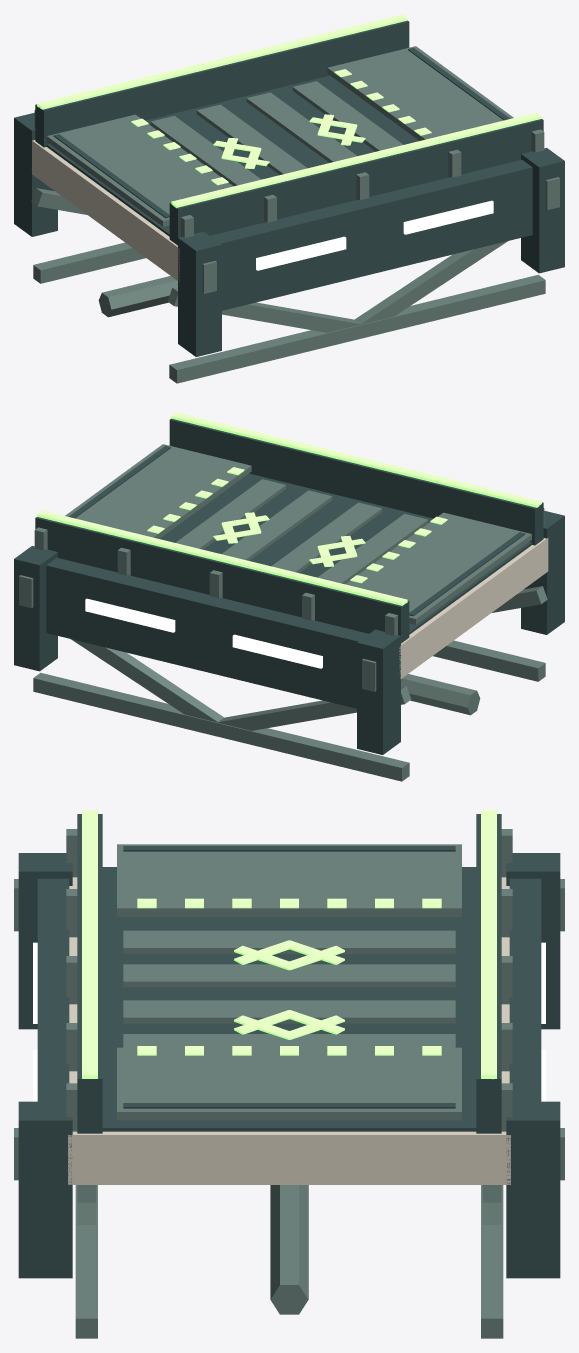
The model's file is Deck_Conveyor_Belt_v4_4_lab.glb.
3 renders of one model, top to bottom at view 1: azimuth 30°, elevation 25°; view 2: azimuth 150°, elevation 25°; view 3: azimuth 270°, elevation 25°, orthographic. The views are drawn at different scales.
Parts seen in each view (by area): view 1: Deck_Conveyor_Belt_v4_4, Treads, TreadsRev; view 2: Deck_Conveyor_Belt_v4_4, Treads, TreadsRev; view 3: Deck_Conveyor_Belt_v4_4, Treads, TreadsRev.
Part boxes in pixels (x1,y1,x2,y2): Deck_Conveyor_Belt_v4_4: (14, 14, 564, 383); Treads: (151, 81, 403, 183); TreadsRev: (150, 81, 402, 186); Deck_Conveyor_Belt_v4_4: (14, 412, 564, 781); Treads: (176, 479, 427, 582); TreadsRev: (175, 479, 428, 584); Deck_Conveyor_Belt_v4_4: (14, 810, 564, 1338); Treads: (123, 930, 455, 1047); TreadsRev: (123, 940, 455, 1047).
Size of the model in its own units: 4.05 by 1.83 by 3.48.
